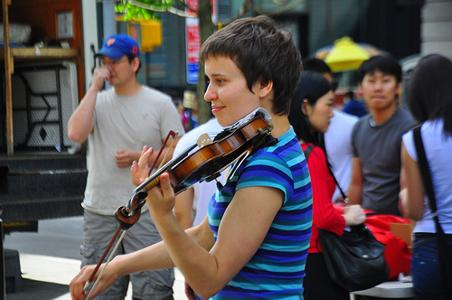person: (70, 18, 314, 300)
